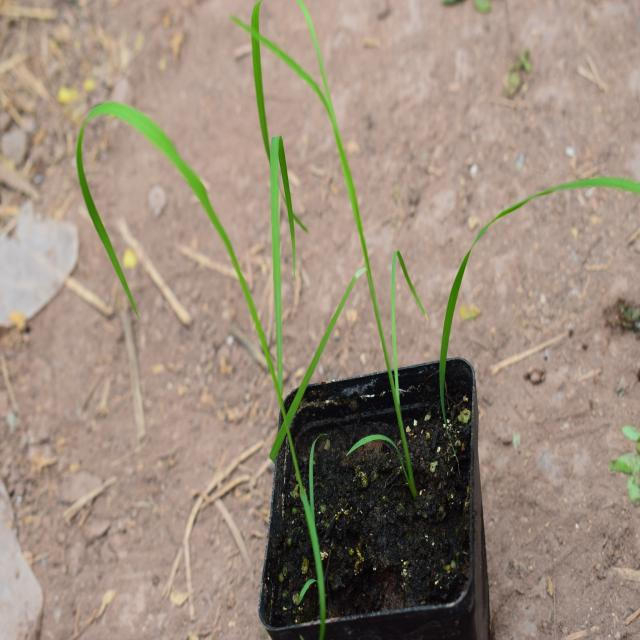barnyard_grass: (78, 74, 391, 533)
